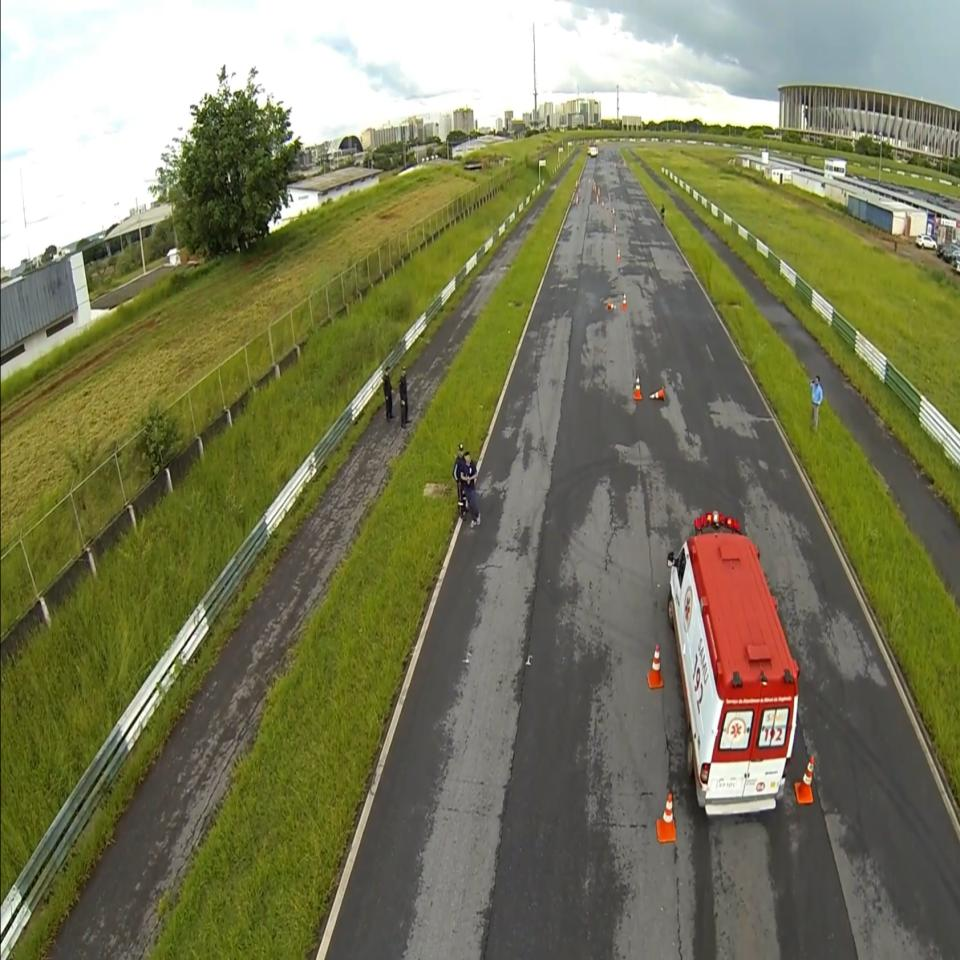bombeiro: (667, 507, 800, 813)
